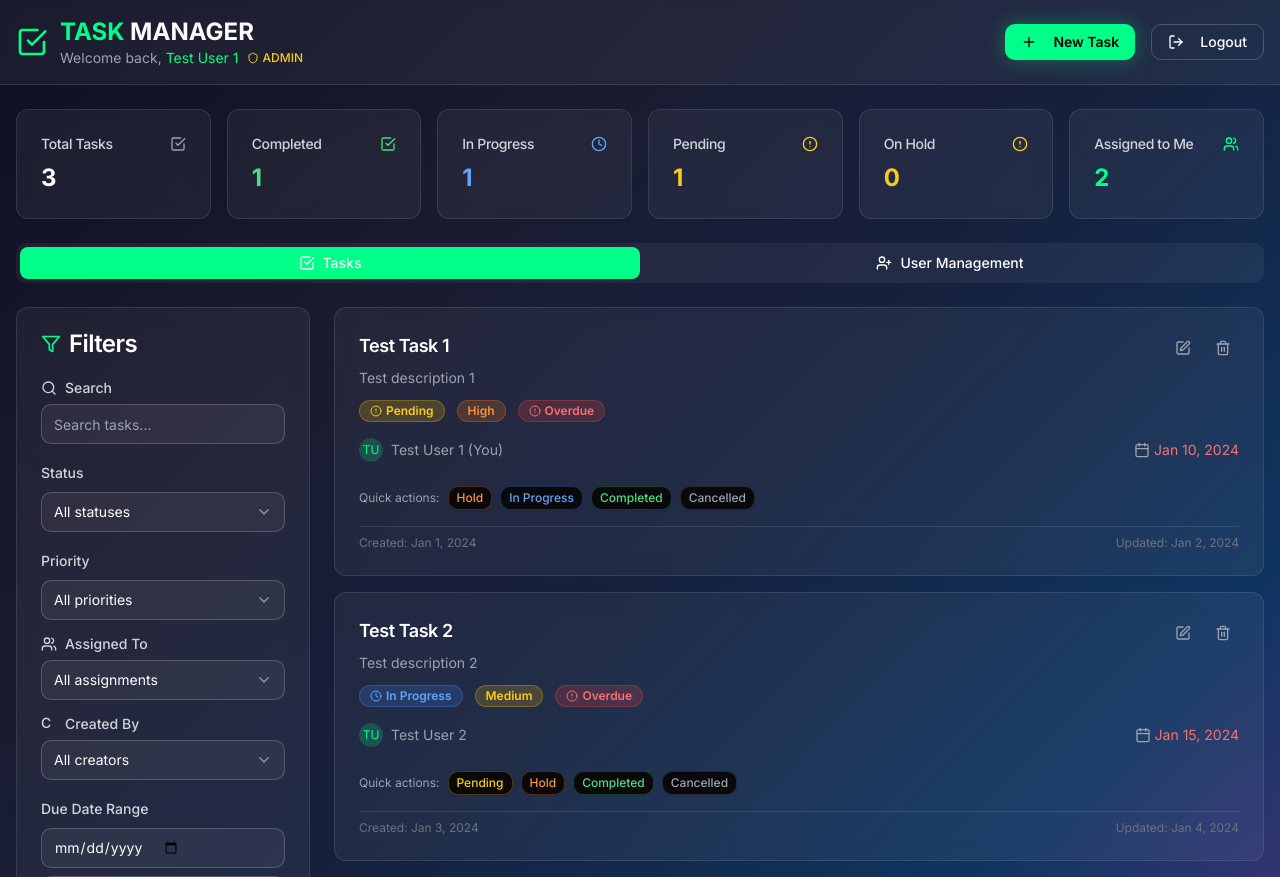
Test: Task Management Integration › handles user management workflow
Switch to Users tab
Click the tab "User Management": (950, 263) x1=640 y1=247 x2=1260 y2=279
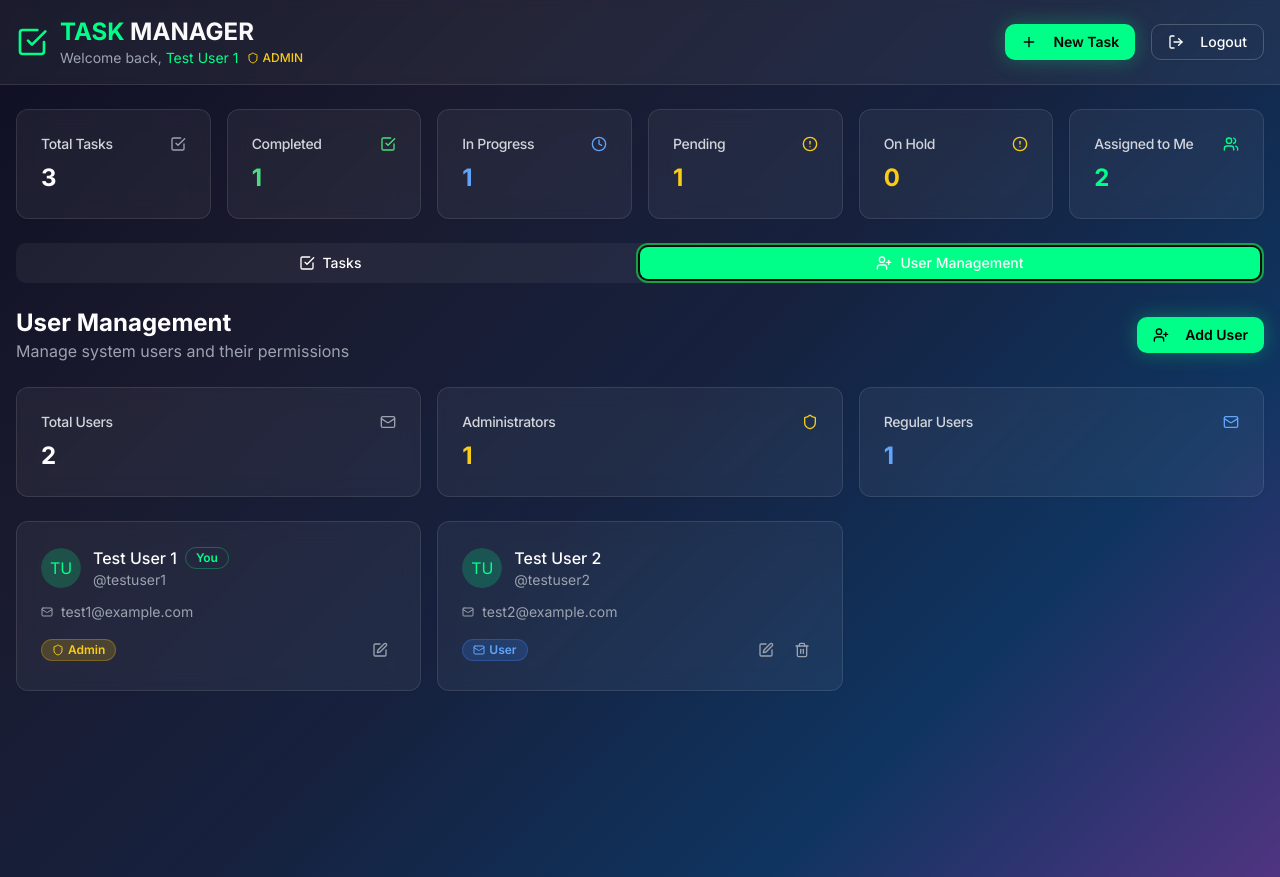
Expected: the text "Test User 1" is shown, x1=166 y1=49 x2=238 y2=66
Expected: the heading "User Management" is shown, x1=16 y1=308 x2=231 y2=337
